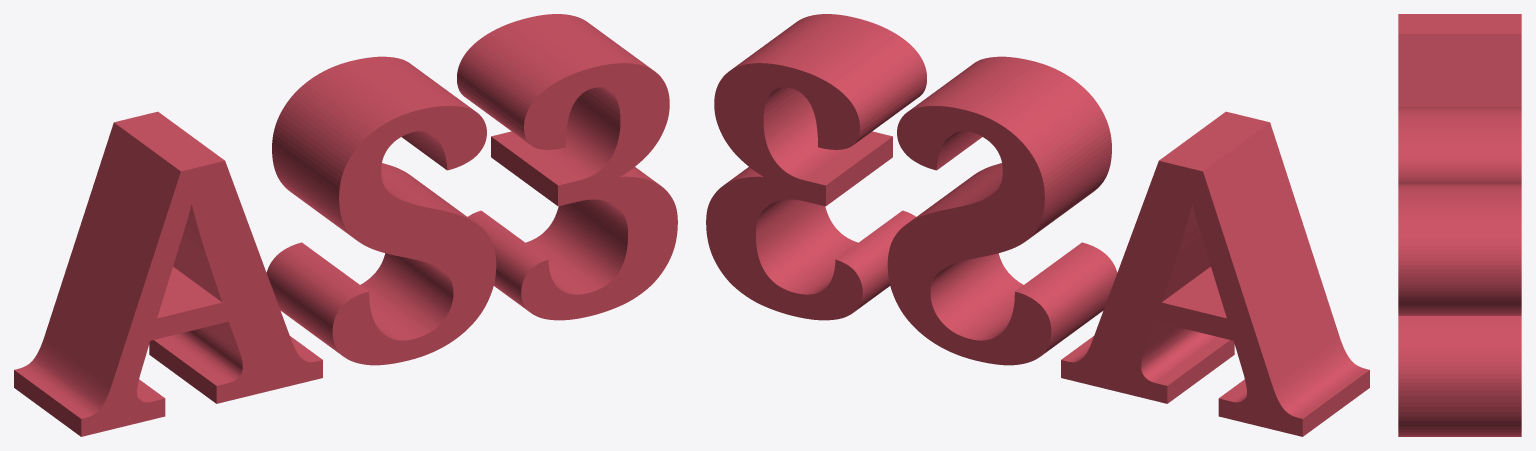
The picture shows the model from 3 angles, left to right: view 1: azimuth 30°, elevation 25°; view 2: azimuth 150°, elevation 25°; view 3: azimuth 270°, elevation 25°; orthographic projection. The views are drawn at different scales.
Parts seen in each view (by area): view 1: Mesh_Mesh_head_geo.001_lambert2SG.001; view 2: Mesh_Mesh_head_geo.001_lambert2SG.001; view 3: Mesh_Mesh_head_geo.001_lambert2SG.001.
Part boxes in pixels (x1,y1,x2,y2): Mesh_Mesh_head_geo.001_lambert2SG.001: (14,14,677,436); Mesh_Mesh_head_geo.001_lambert2SG.001: (706,14,1369,436); Mesh_Mesh_head_geo.001_lambert2SG.001: (1398,14,1521,436).
Size of the model in its own units: 51.32 by 20.38 by 10.
